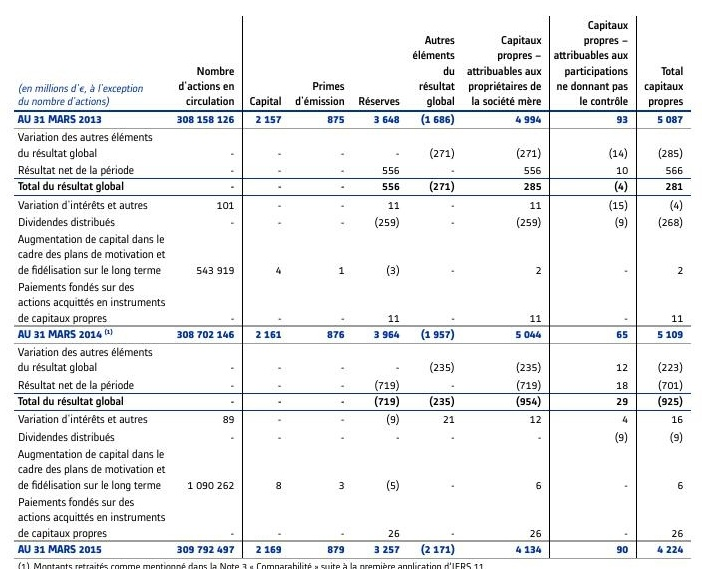table: (0, 0, 702, 569)
